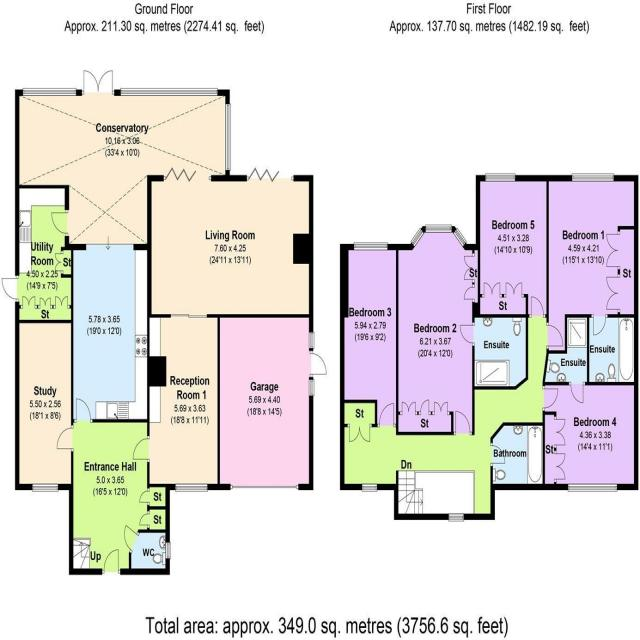DOOR: (82, 67, 115, 95), (1, 274, 20, 303), (56, 424, 74, 452), (132, 435, 150, 463), (51, 209, 69, 237), (102, 549, 121, 575), (124, 524, 140, 554), (546, 321, 563, 349), (453, 410, 472, 435), (74, 398, 93, 423), (542, 385, 559, 412), (377, 403, 396, 427), (568, 382, 586, 404), (591, 314, 608, 337), (490, 442, 505, 467), (460, 322, 475, 347), (529, 296, 546, 318)
FOLDING DOOR: (244, 159, 294, 189), (160, 161, 212, 189)
ROOM: (147, 166, 314, 318), (396, 224, 480, 435), (546, 173, 638, 354), (132, 315, 220, 493), (71, 243, 152, 423), (339, 242, 399, 428), (475, 173, 549, 318), (542, 382, 638, 492)
WINDOW: (567, 483, 618, 493), (353, 241, 389, 252), (572, 173, 614, 182), (175, 483, 208, 493), (410, 227, 424, 248), (453, 227, 467, 248), (485, 173, 516, 182), (32, 483, 59, 493), (425, 224, 452, 233), (361, 482, 378, 493), (448, 513, 464, 522), (165, 541, 171, 560)
